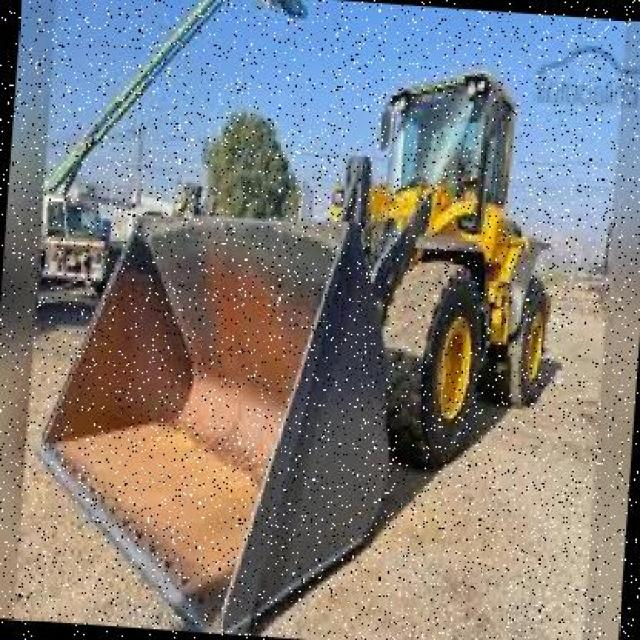buldozerpayloadergrader: (20, 20, 574, 640)
